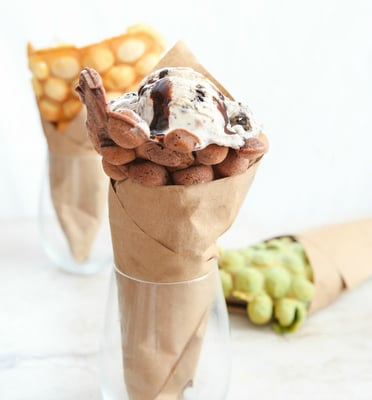salad: (172, 164, 214, 186)
